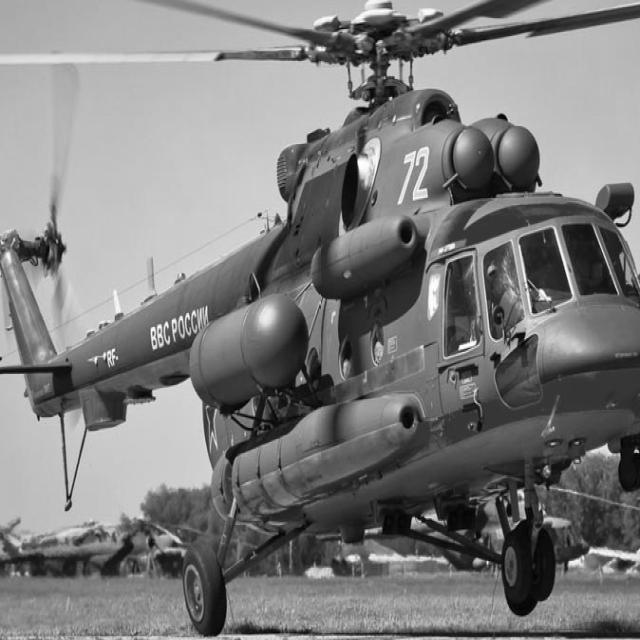helicopter: (1, 1, 640, 627)
